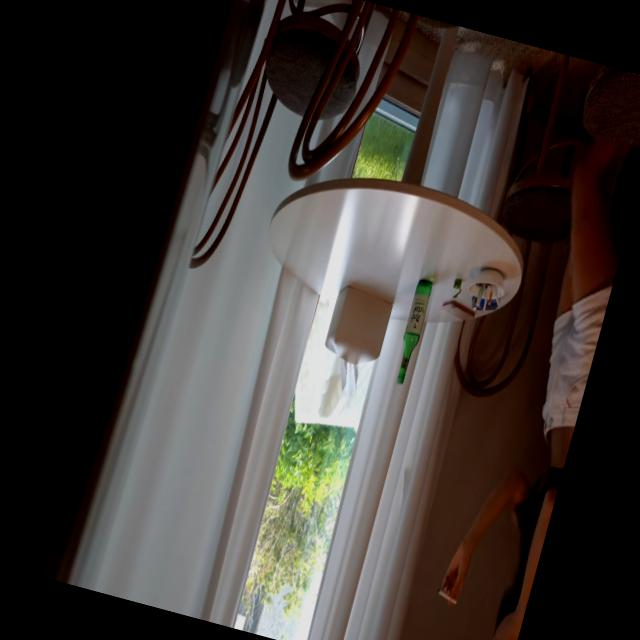smoke: (433, 580, 467, 612)
